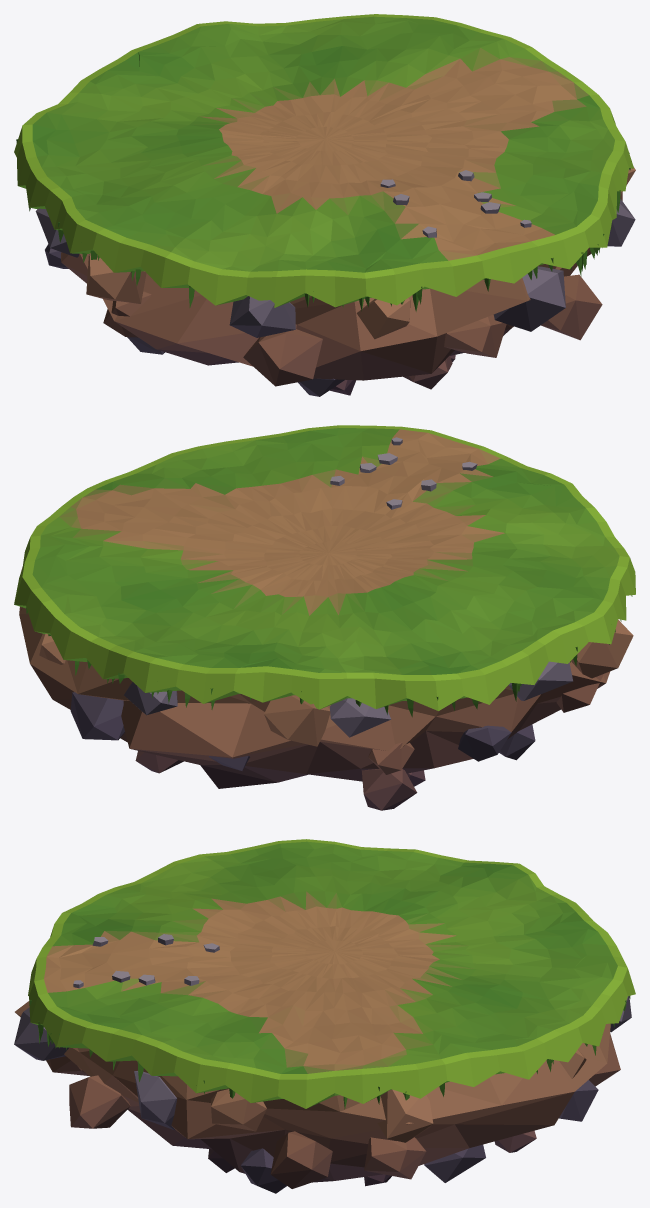
File: island__lp.glb
3 renders of one model, top to bottom at view 1: azimuth 30°, elevation 25°; view 2: azimuth 150°, elevation 25°; view 3: azimuth 270°, elevation 25°, orthographic. The views are drawn at different scales.
Parts seen in each view (by area): view 1: turf, crag, boulder.018, boulder.009, boulder.007, boulder.020, boulder.006, boulder.019, boulder.008, fringe, edge_stones, boulder.017 (+4 smaller); view 2: turf, crag, boulder.003, boulder.013, boulder.024, boulder.006, boulder.004, boulder.016, boulder.005, boulder.002, edge_stones, boulder.015 (+4 smaller); view 3: turf, crag, boulder.021, boulder.020, boulder, boulder.012, boulder.010, boulder.011, boulder.009, boulder.022, boulder.028, edge_stones (+3 smaller).
Part boxes in pixels (box(x1,y1,x2,y2)): turf: box(14, 14, 633, 307); crag: box(61, 191, 622, 380); boulder.018: box(243, 329, 322, 386); boulder.009: box(493, 266, 565, 331); boulder.007: box(229, 296, 295, 337); boulder.020: box(541, 274, 602, 340); boulder.006: box(86, 253, 146, 303); boulder.019: box(444, 314, 506, 357); boulder.008: box(356, 298, 410, 339); fringe: box(16, 139, 631, 311); edge_stones: box(380, 170, 531, 237); boulder.017: box(103, 291, 151, 337); turf: box(14, 425, 635, 710); crag: box(19, 606, 610, 788); boulder.003: box(264, 695, 330, 746); boulder.013: box(70, 692, 124, 740); boulder.024: box(362, 768, 417, 810); boulder.006: box(571, 619, 633, 678); boulder.004: box(330, 698, 391, 737); boulder.016: box(458, 725, 511, 761); boulder.005: box(508, 661, 572, 700); boulder.002: box(124, 682, 177, 715); edge_stones: box(330, 437, 477, 509); boulder.015: box(368, 742, 414, 774); turf: box(28, 839, 635, 1108); crag: box(15, 1001, 620, 1182); boulder.021: box(270, 1131, 332, 1188); boulder.020: box(69, 1075, 130, 1128); boulder: box(377, 1089, 433, 1142); boulder.012: box(364, 1137, 426, 1179); boulder.010: box(134, 1071, 177, 1130); boulder.011: box(211, 1089, 266, 1131); boulder.009: box(14, 1007, 68, 1060); boulder.022: box(424, 1144, 485, 1182); boulder.028: box(240, 1148, 286, 1193); edge_stones: box(73, 934, 219, 988).
Bounding box in the file's own units: 10.2 × 3.81 × 10.65.
